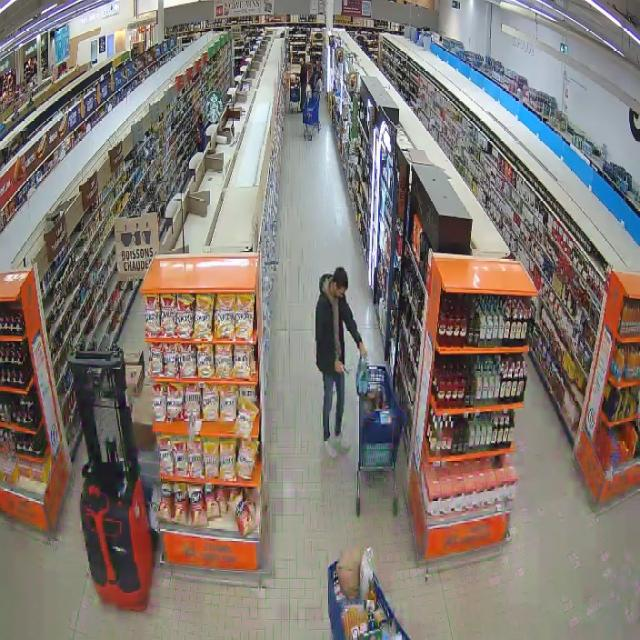article: (356, 356, 368, 396)
hands: (335, 359, 344, 374), (359, 343, 367, 358)
person: (315, 267, 366, 456)
